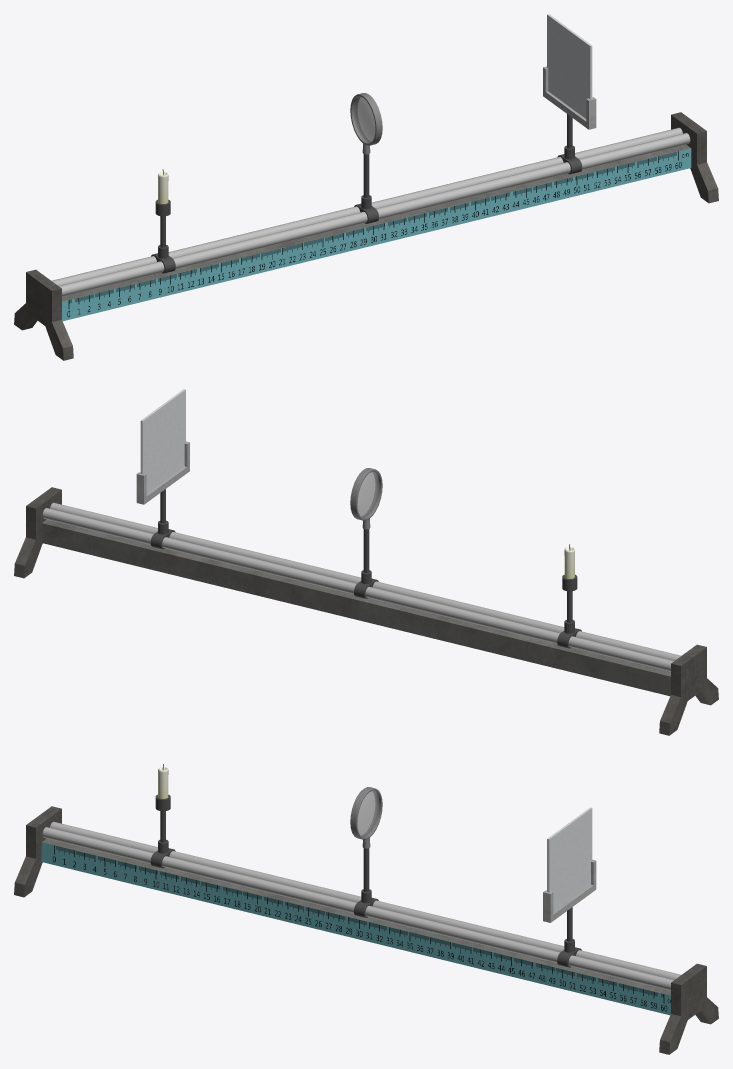
File: wl_wljj_guangjuzuo.fbx
3 renders of one model, top to bottom at view 1: azimuth 30°, elevation 25°; view 2: azimuth 150°, elevation 25°; view 3: azimuth 330°, elevation 25°, orthographic.
Visible parts, largest first — view 1: wl_wljj_gjz_dz, wl_wljj_gp_p, wl_wljj_gjz_kd, wl_wljj_ttj, wl_wljj_gp_k; view 2: wl_wljj_gjz_dz, wl_wljj_gp_p, wl_wljj_ttj, wl_wljj_gp_k; view 3: wl_wljj_gjz_dz, wl_wljj_gp_p, wl_wljj_gjz_kd, wl_wljj_ttj, wl_wljj_gp_k.
Part boxes in pixels (<box>): wl_wljj_gjz_dz: <box>14,112,718,360</box>; wl_wljj_gp_p: <box>547,14,592,118</box>; wl_wljj_gjz_kd: <box>68,151,678,308</box>; wl_wljj_ttj: <box>350,93,382,154</box>; wl_wljj_gp_k: <box>543,66,596,129</box>; wl_wljj_gjz_dz: <box>14,487,718,735</box>; wl_wljj_gp_p: <box>140,389,185,493</box>; wl_wljj_ttj: <box>350,468,382,529</box>; wl_wljj_gp_k: <box>136,441,189,504</box>; wl_wljj_gjz_dz: <box>14,806,718,1054</box>; wl_wljj_gp_p: <box>547,807,592,911</box>; wl_wljj_gjz_kd: <box>54,845,664,1003</box>; wl_wljj_ttj: <box>350,787,382,848</box>; wl_wljj_gp_k: <box>543,859,596,922</box>.
Size of the model in its own units: 64.49 by 17.21 by 8.47.
